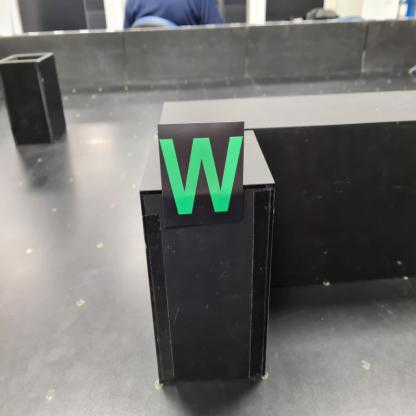w: (158, 121, 246, 228)
